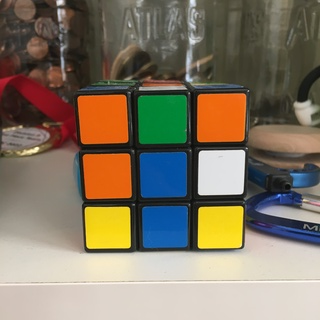face: (74, 89, 244, 249)
